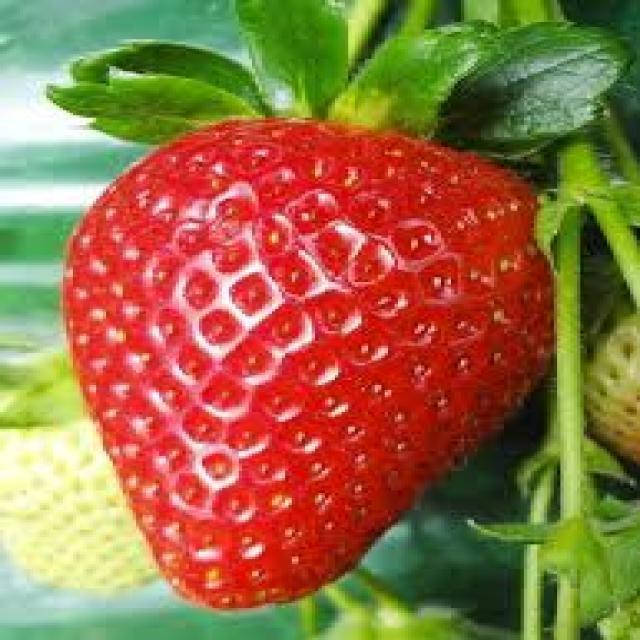Healthy Fruit: (62, 95, 586, 610)
